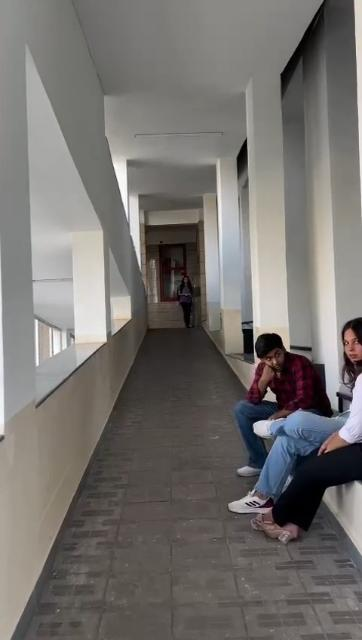floor: (21, 327, 362, 640)
moving-obj: (224, 274, 362, 596), (154, 263, 202, 339)
wall: (0, 314, 152, 640), (0, 8, 30, 608), (310, 2, 362, 314), (74, 56, 111, 342), (246, 84, 290, 322), (206, 156, 242, 278), (114, 164, 142, 316)
